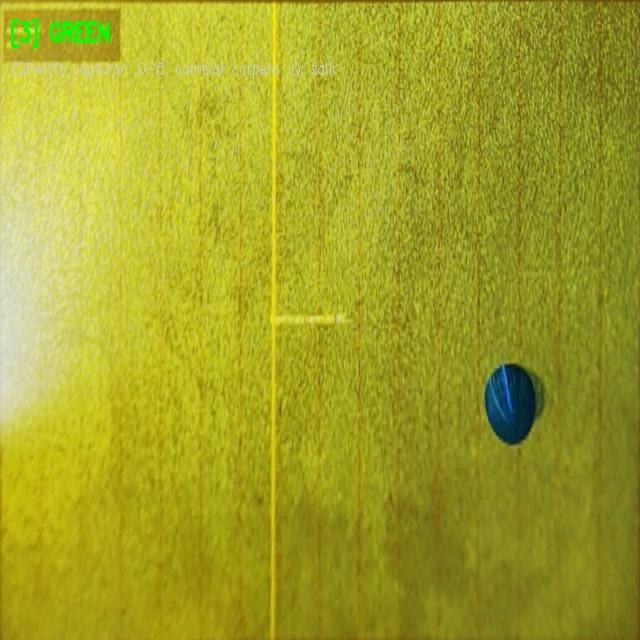green: (485, 360, 536, 447)
